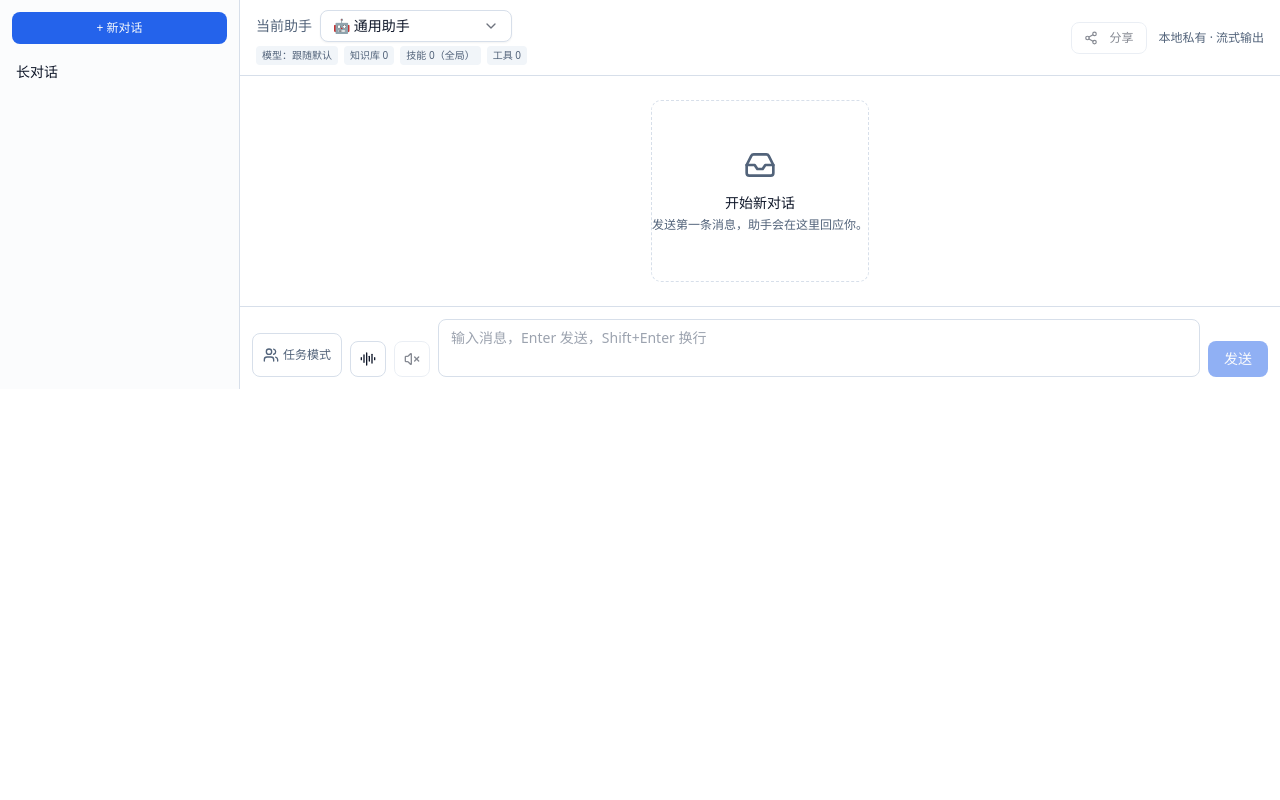
Test: 对话页（TR-27.1） › v0.5：会话已压缩时头部显示徽标，点击弹窗展示摘要正文
The width and height of the screenshot is (1280, 800).
Step 1. Type "继续" into the text box named "消息输入框" → point(819, 348), box [438, 319, 1200, 377]
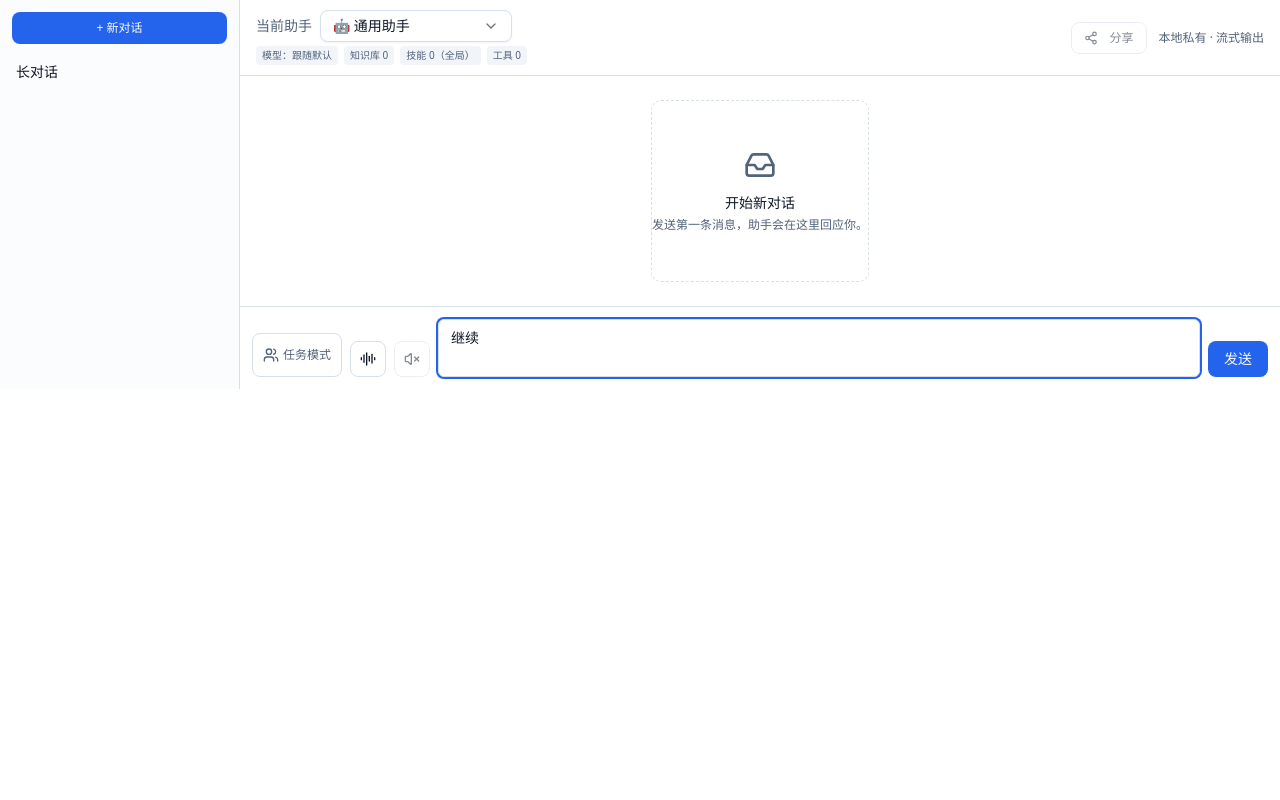
Step 2. Click the button with aria-label "发送消息" → point(1238, 359), box [1208, 341, 1268, 377]
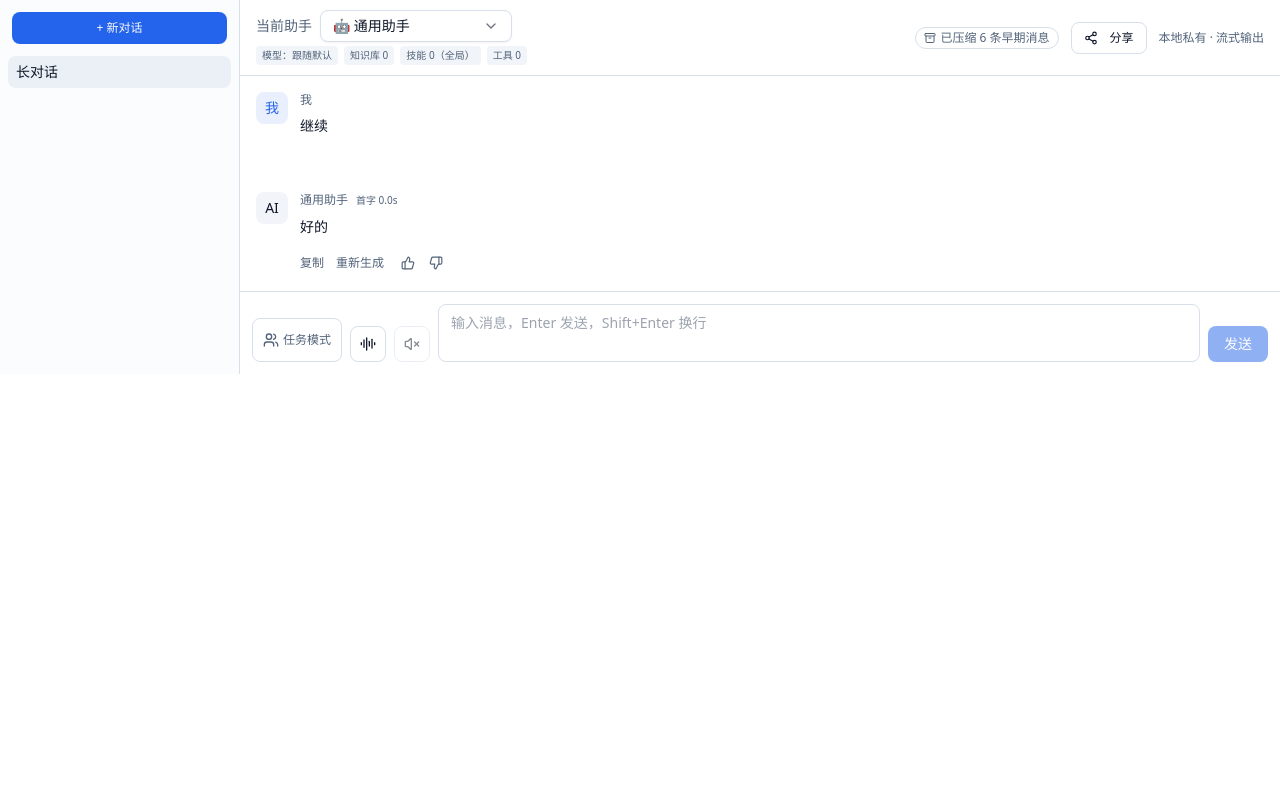
Expected: the button with test id "compaction-badge" reads "已压缩 6 条早期消息"
Step 3. Click the button with test id "compaction-badge" → point(987, 38), box [915, 26, 1058, 48]
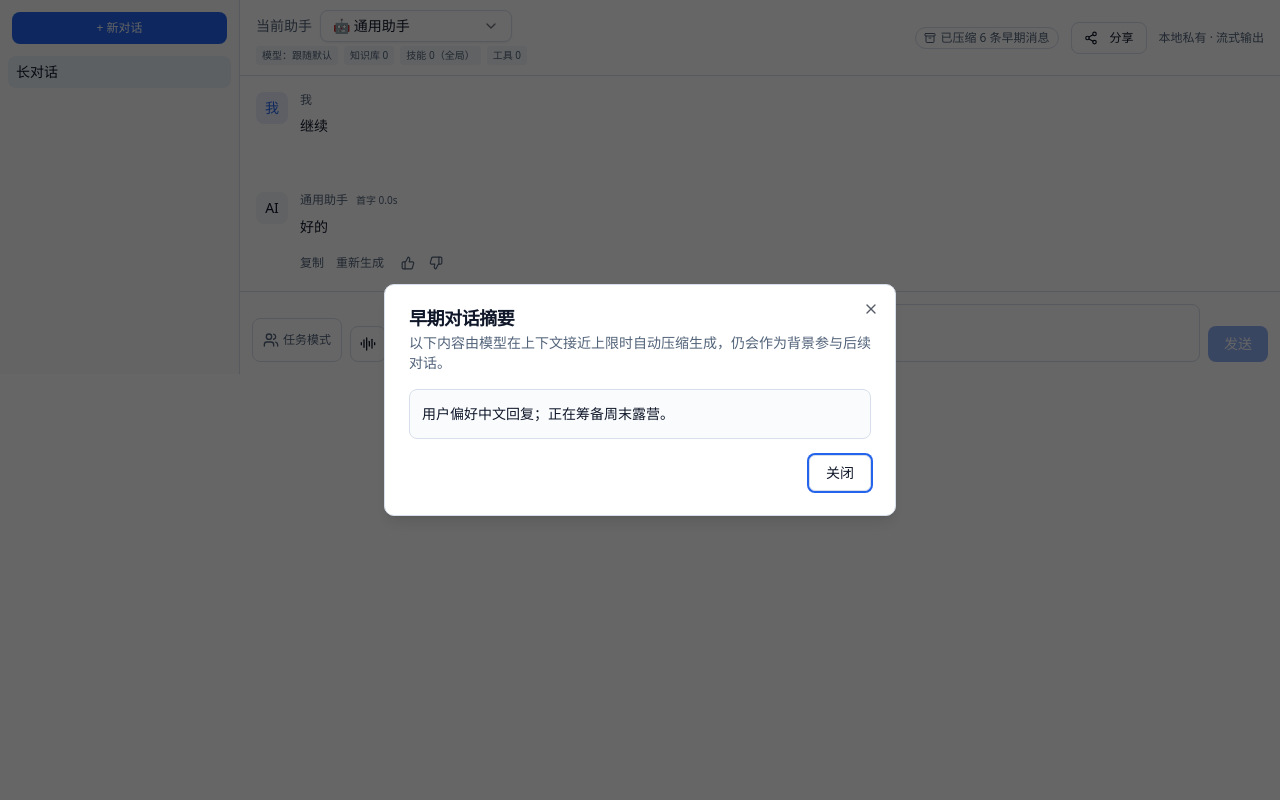
Expected: the text with test id "conversation-summary-text" reads "用户偏好中文回复；正在筹备周末露营。", [422, 404, 674, 423]
